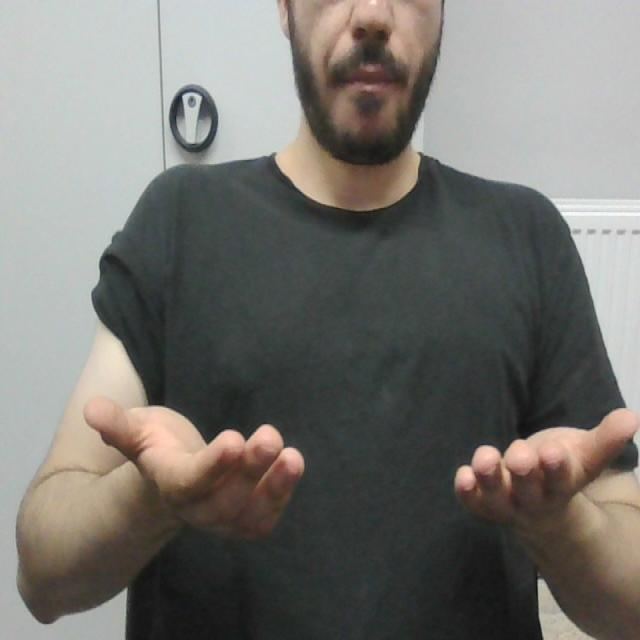Evet: (79, 392, 640, 543)
